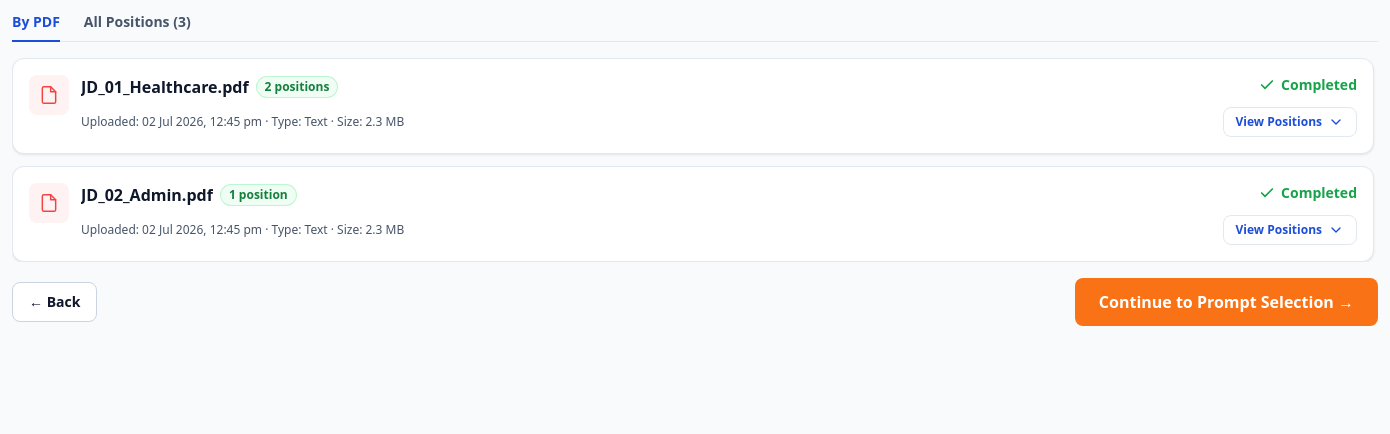
Test: ExtractionResults — By PDF grouping › hides positions until a PDF is expanded, then shows only that PDF's positions
Expected: the text "Enterprise IT Architect" is not shown
# Expand the first PDF only
Click the 1st button "View Positions": click(1290, 122) x1=1223 y1=107 x2=1357 y2=137
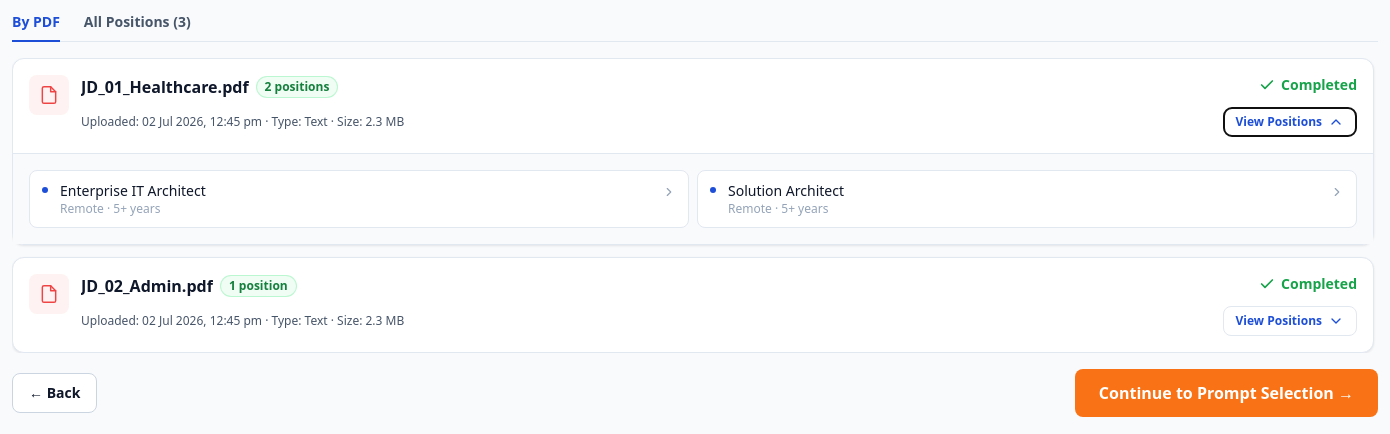
Expected: the text "Enterprise IT Architect" is shown, x1=60 y1=181 x2=206 y2=200
Expected: the text "Solution Architect" is shown, x1=728 y1=181 x2=844 y2=200
